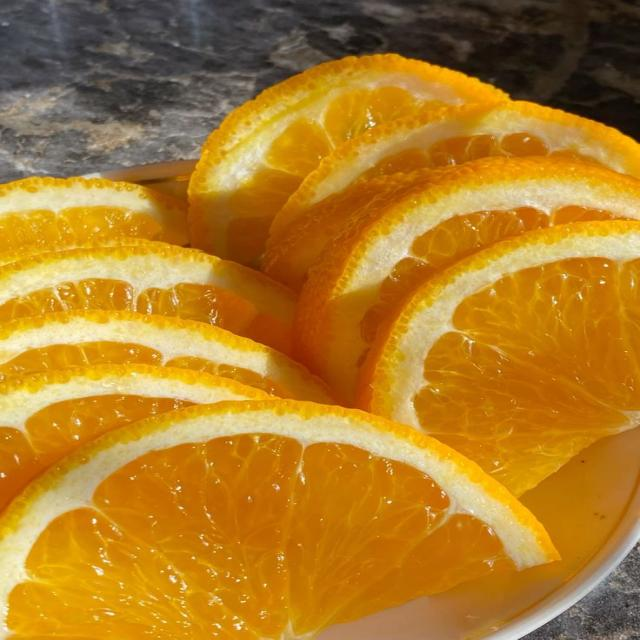orange: (0, 401, 557, 639), (294, 158, 639, 400), (358, 221, 639, 495), (189, 54, 505, 265), (267, 102, 639, 257), (0, 365, 266, 510), (0, 243, 295, 351), (0, 310, 333, 403), (0, 177, 188, 251)
